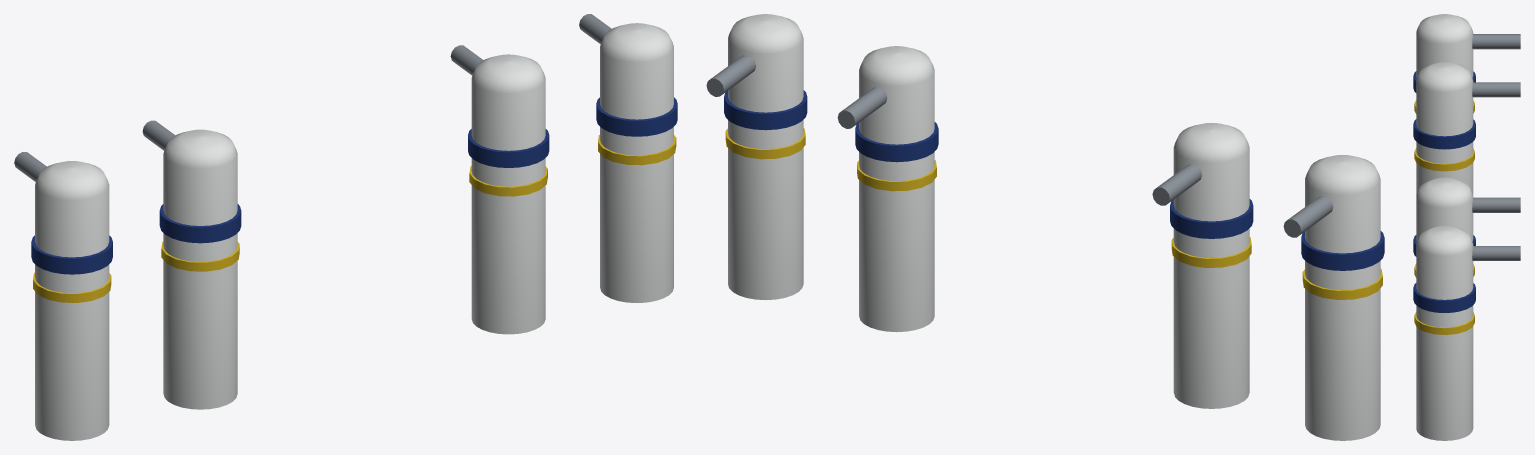
File: l20_scrubber.obj
3 renders of one model, left to right at view 1: azimuth 30°, elevation 25°; view 2: azimuth 150°, elevation 25°; view 3: azimuth 270°, elevation 25°, orthographic. The views are drawn at different scales.
Parts seen in each view (by area): view 1: l20_scrubber; view 2: l20_scrubber; view 3: l20_scrubber.
Boxes of the visible parts, x1,y1,x2,y2 form: l20_scrubber: [14, 14, 677, 440]; l20_scrubber: [706, 14, 1384, 440]; l20_scrubber: [1413, 14, 1520, 440].
Size of the model in its own units: 2.97 by 1.15 by 0.565.
